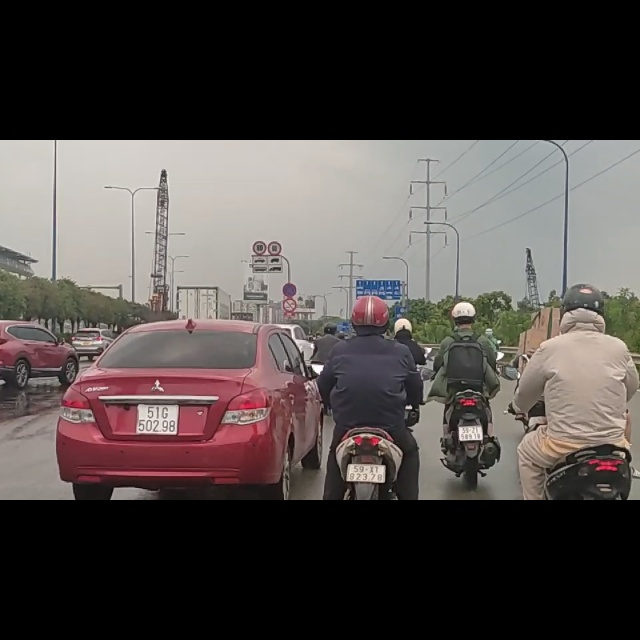bien_cam: (282, 254, 297, 279)
